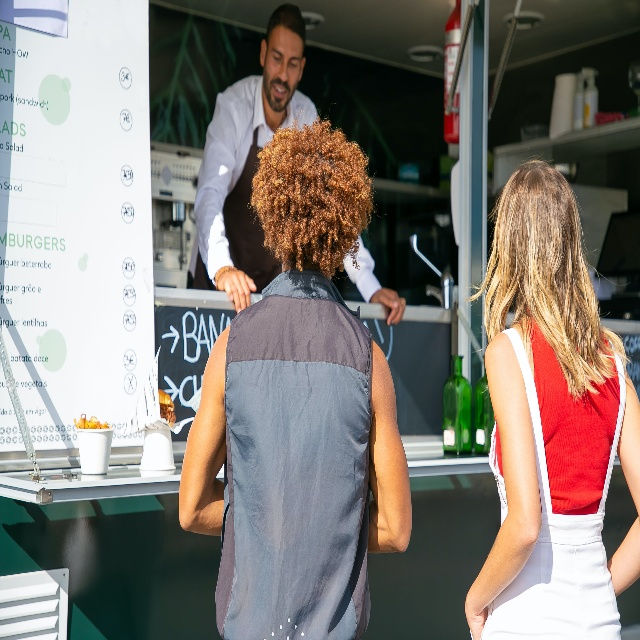Sin_guantes: (217, 269, 257, 315), (370, 288, 406, 326), (464, 603, 489, 640)
